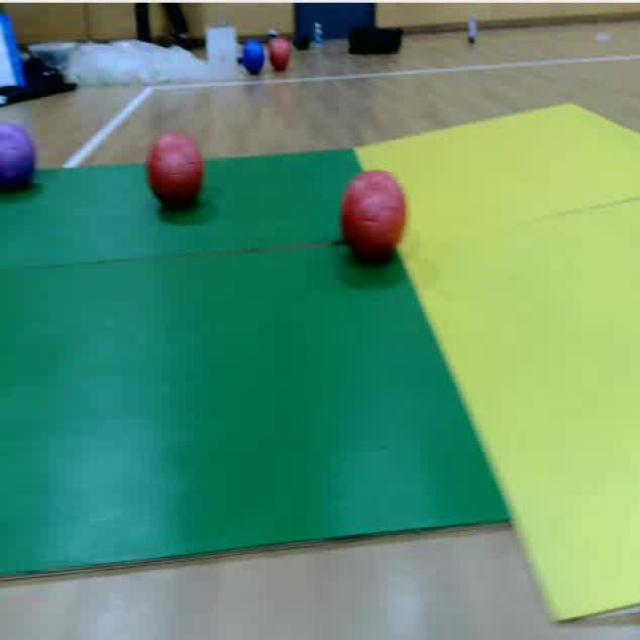blue_ball: (240, 39, 266, 74)
purple_ball: (0, 117, 41, 198)
red_ball: (334, 170, 411, 263), (145, 130, 207, 217), (266, 36, 294, 73)
